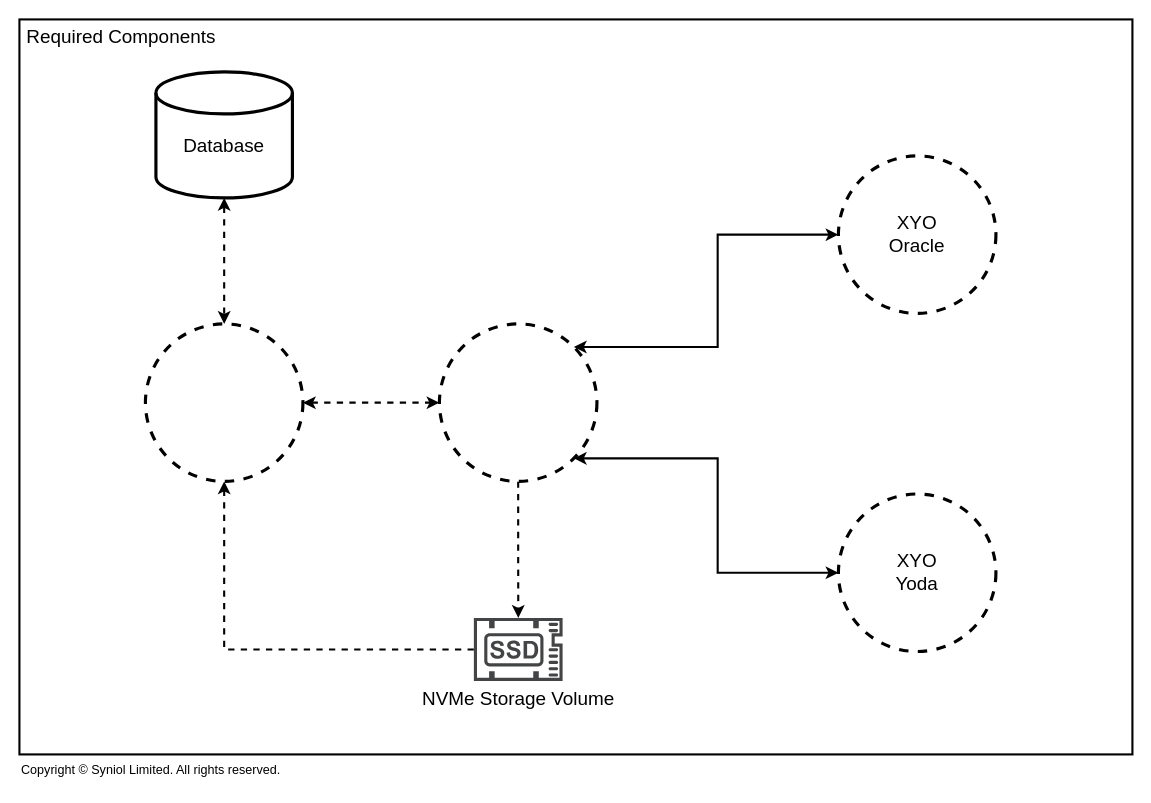
This 1151x803 diagram has some shape labels left out. Here are the shapes that lost their labels. From the top down, the centre of each, then its label:
At pixel 223 402: "XYO Gateway".
At pixel 517 402: "XYO Enrichment".
